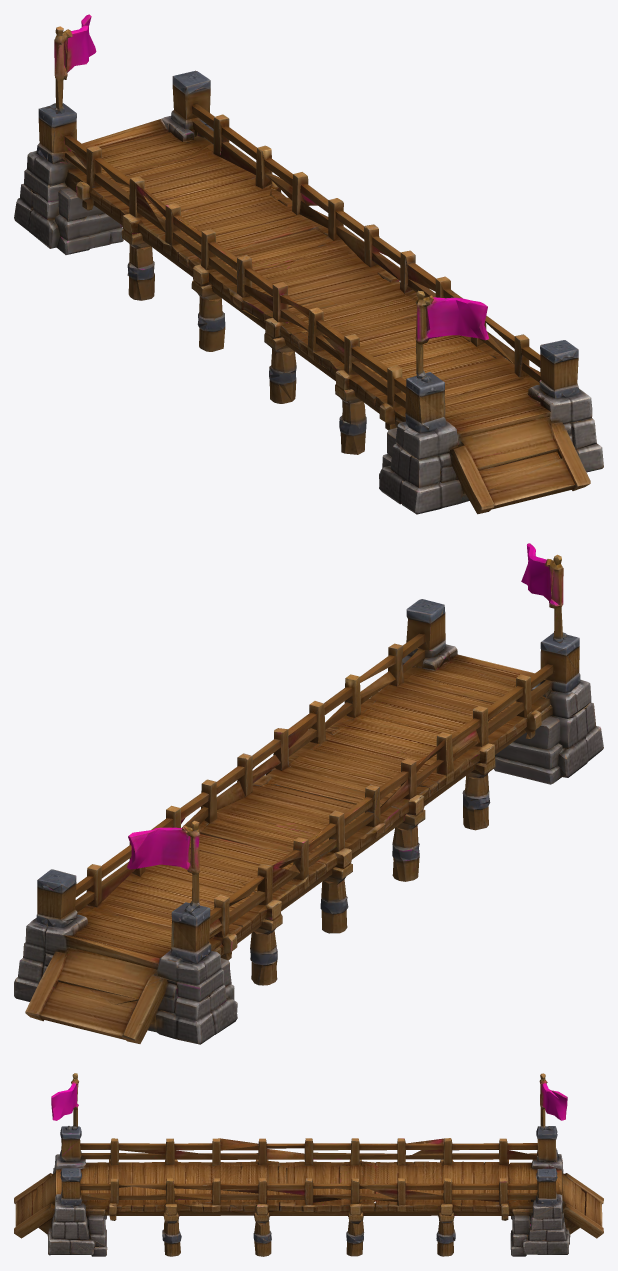
File: bridge.glb
3 views of the same model, one above another, from view 1: azimuth 30°, elevation 25°; view 2: azimuth 150°, elevation 25°; view 3: azimuth 270°, elevation 25° (orthographic). The views are drawn at different scales.
Parts seen in each view (by area): view 1: Mesh_0; view 2: Mesh_0; view 3: Mesh_0.
Part boxes in pixels (x1,y1,x2,y2): Mesh_0: [14, 14, 603, 514]; Mesh_0: [14, 543, 603, 1044]; Mesh_0: [14, 1073, 603, 1256].
Bounding box in the file's own units: 0.4559 × 0.4968 × 1.9.
Materials: 1 (1 with a texture image).
